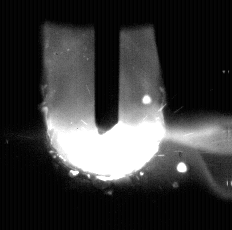arame: (96, 0, 120, 135)
poca: (49, 0, 167, 230)
